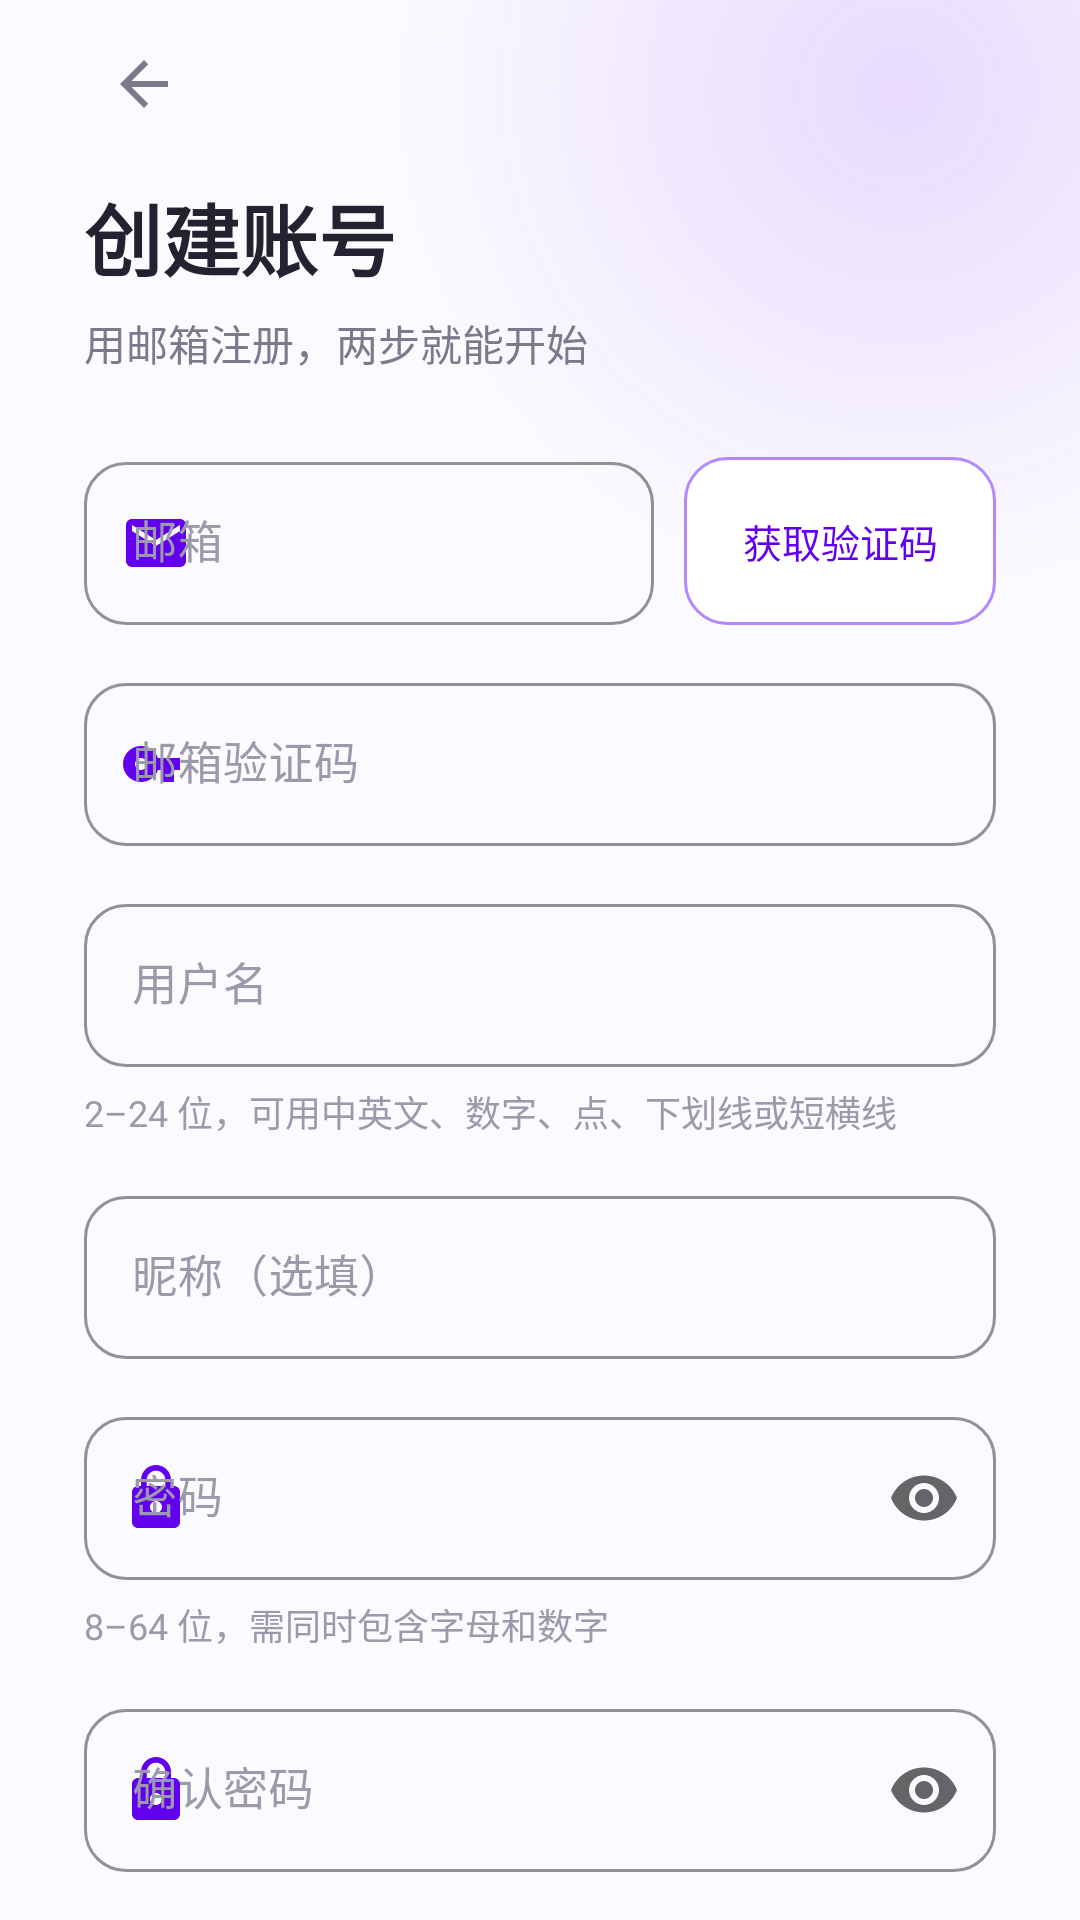

Named icons in this screenshot (1080*1920) and their bounding boxes, [left=x1, top=y1, right=x2, bottom=y2]:
返回: [left=120, top=60, right=168, bottom=108]
